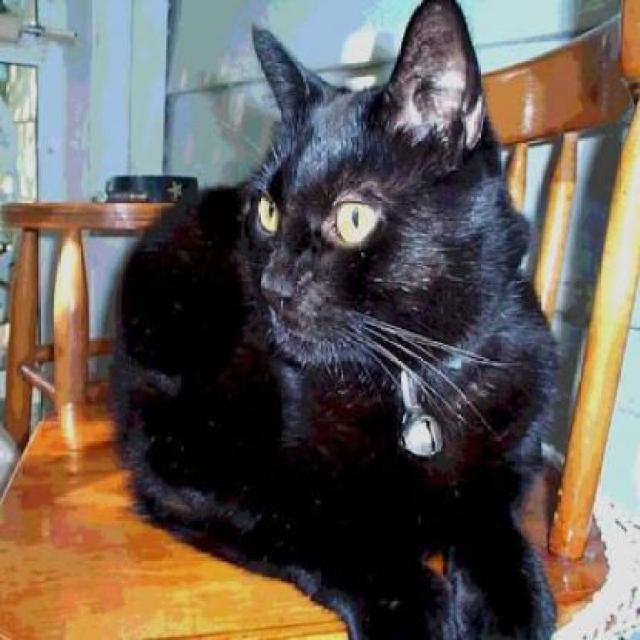cat: (112, 0, 558, 638)
